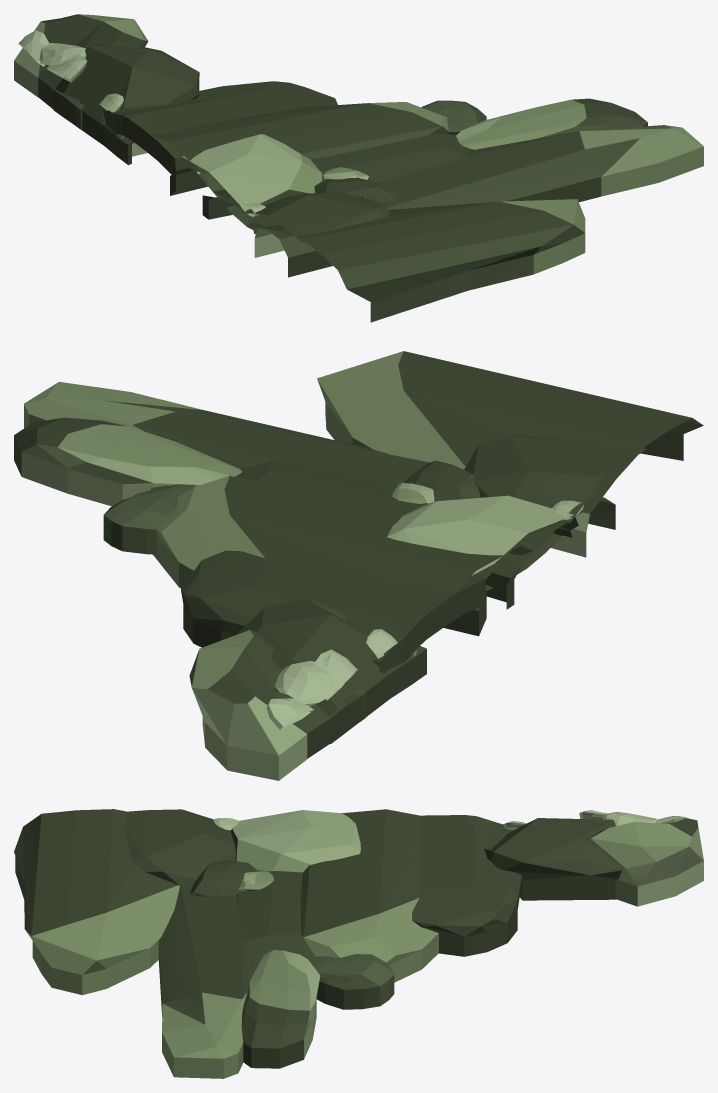
Rendered from EA_Swamp_Ground_02a.glb.
3 views of the same model, one above another, from view 1: azimuth 30°, elevation 25°; view 2: azimuth 150°, elevation 25°; view 3: azimuth 270°, elevation 25° (orthographic). The views are drawn at different scales.
Parts seen in each view (by area): view 1: EA_Swamp_Ground_02a; view 2: EA_Swamp_Ground_02a; view 3: EA_Swamp_Ground_02a.
Part boxes in pixels (bbox=[...]): EA_Swamp_Ground_02a: bbox=[14, 14, 703, 322]; EA_Swamp_Ground_02a: bbox=[14, 351, 703, 780]; EA_Swamp_Ground_02a: bbox=[14, 809, 703, 1078].
Bounding box in the file's own units: 11.42 × 1.73 × 15.25.
1 material, 1 textured.
